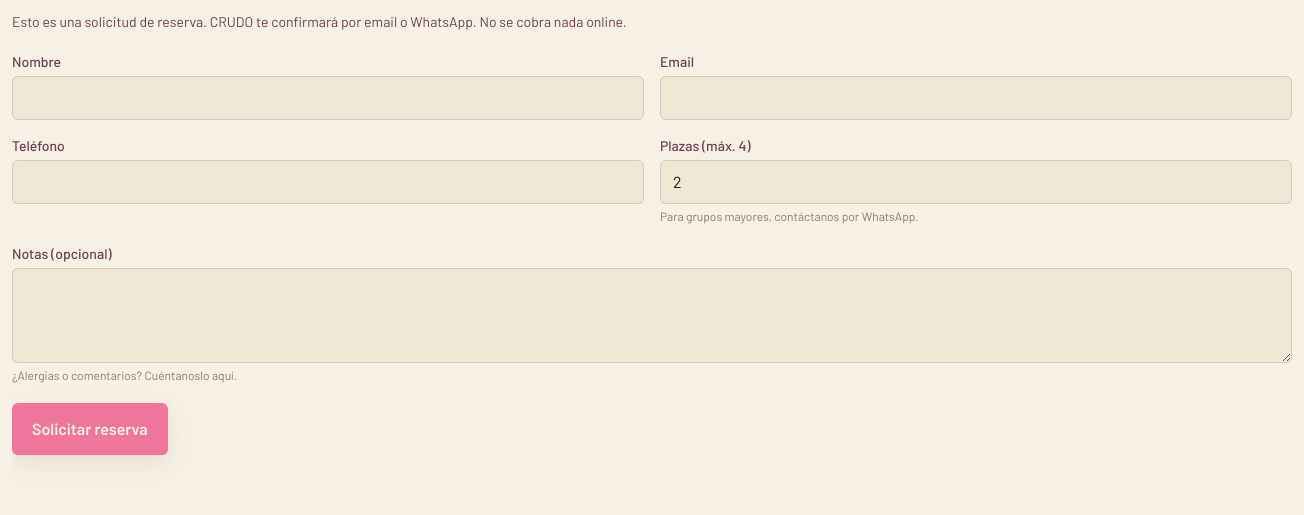
Test: ReservationForm › flags required fields on empty submit
Step 1. Click the button "Solicitar reserva" → (90, 429), box [12,403,168,455]
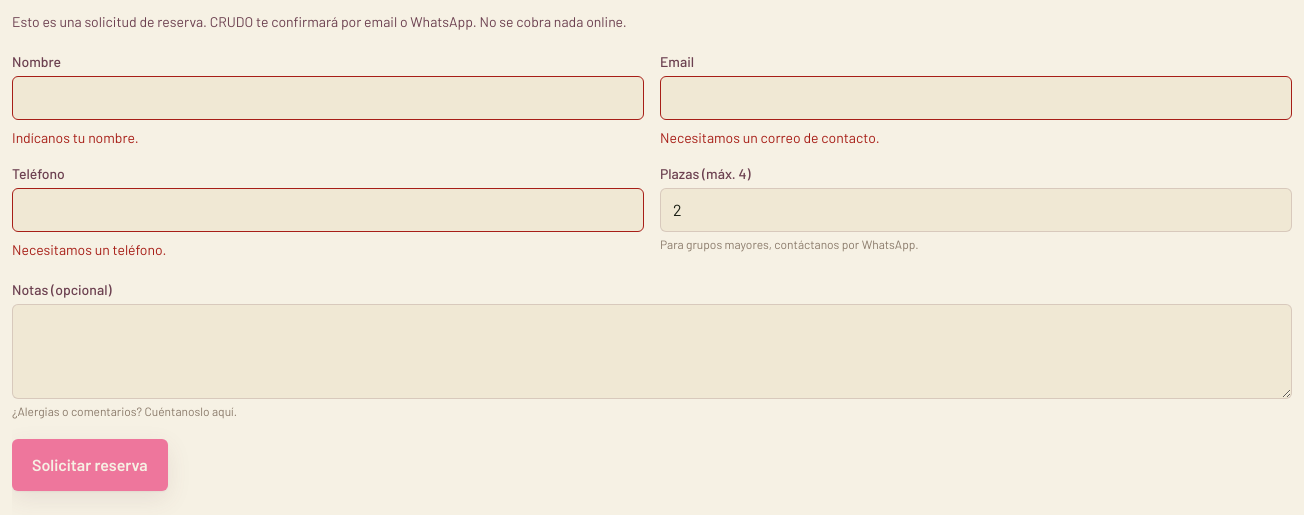
Check: the text "Indícanos tu nombre." is shown, box [12,129,138,146]
